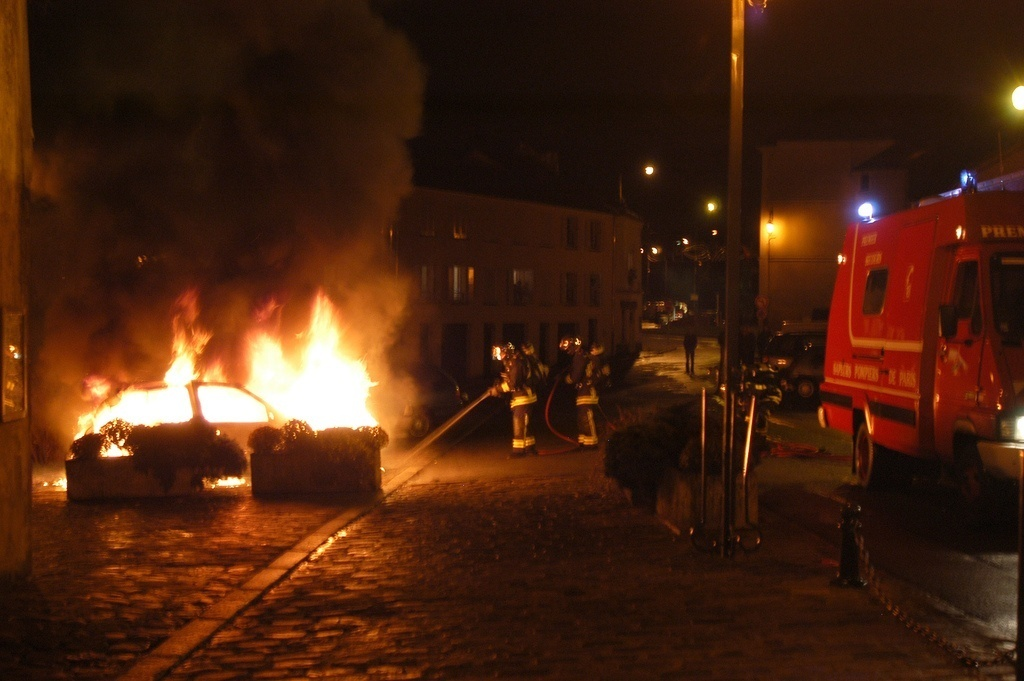fire: (68, 288, 383, 453)
